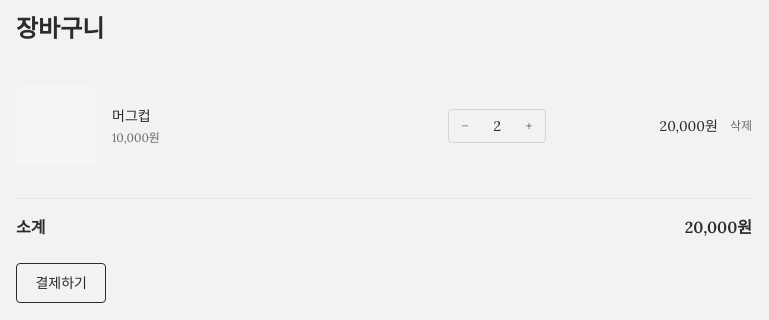
Scenario: CartView — AC-STOREFRONT-021 › shows the empty-cart guidance after deleting the last item, without a reload
Click the button with aria-label "머그컵 삭제": click(741, 126) [730,118,752,134]
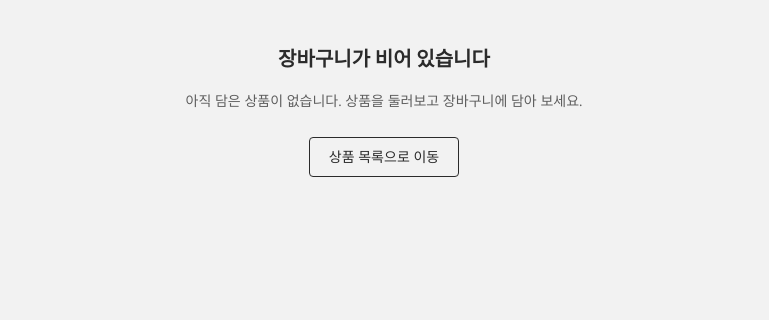
Check: the heading "장바구니가 비어 있습니다" is shown, box [278,48,490,72]
